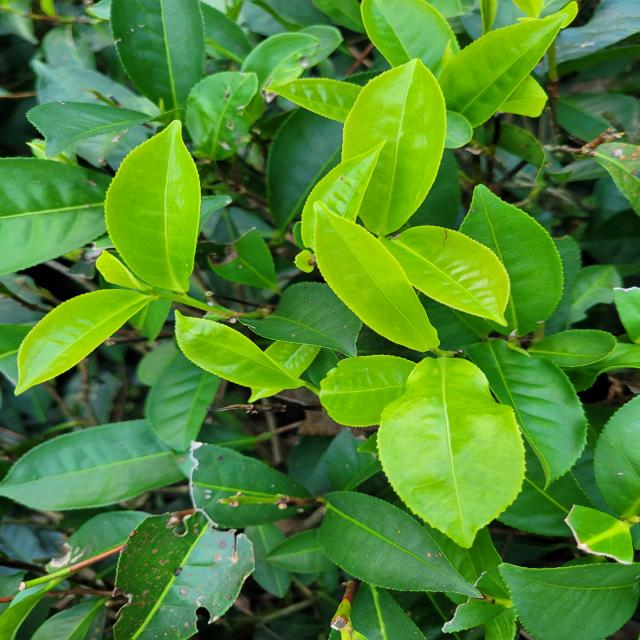Catagory A(1-2 days): (305, 202, 459, 360), (57, 240, 165, 302)
